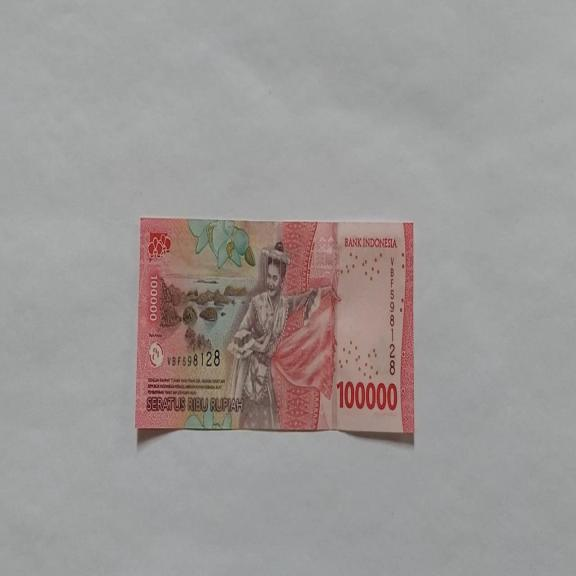Kertas: (135, 216, 414, 438), (336, 378, 398, 412)
